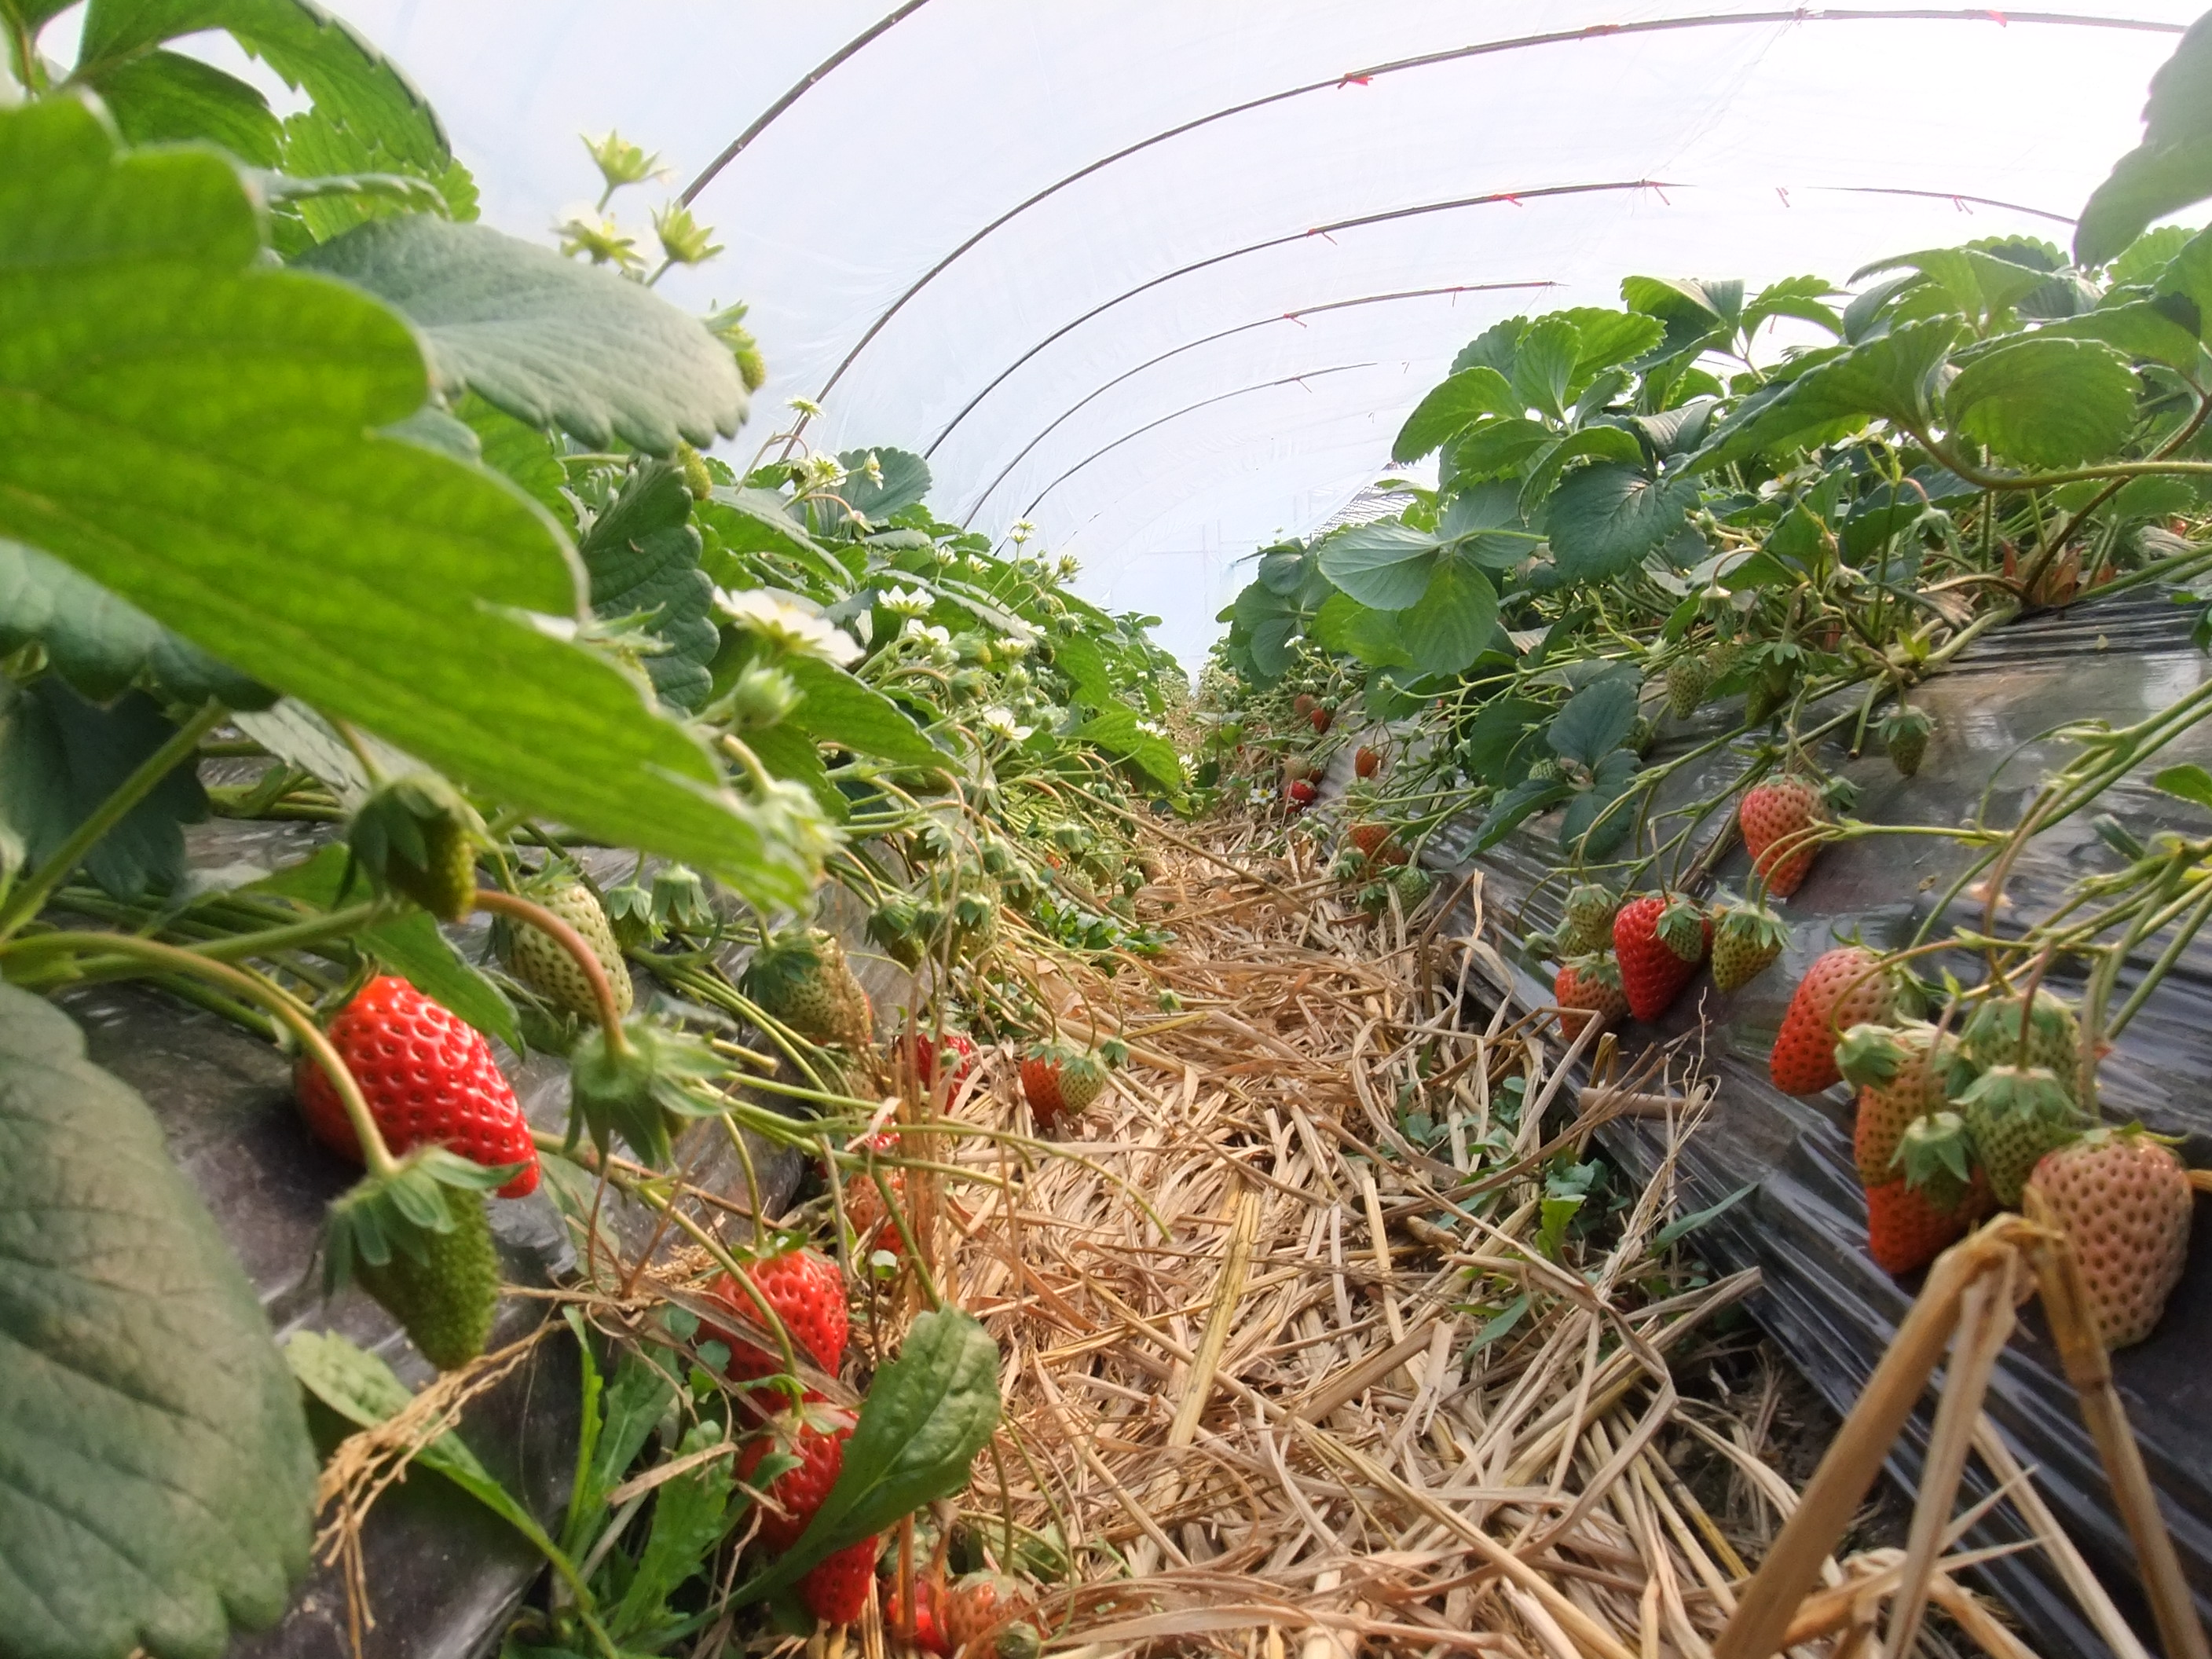StrawberryCone: (1597, 887, 1721, 1039)
StrawberryFusiform: (282, 962, 542, 1208), (705, 1429, 899, 1636), (685, 1229, 859, 1413)
StrawberryIrremovable: (2022, 1127, 2195, 1352), (352, 1173, 502, 1363), (1843, 1131, 1994, 1269), (1827, 1028, 1968, 1175), (1768, 943, 1904, 1094), (516, 870, 643, 1023), (359, 777, 486, 917), (1973, 1060, 2083, 1211), (754, 915, 880, 1040), (1975, 976, 2094, 1094), (1738, 774, 1839, 896), (1014, 1042, 1109, 1141), (894, 1012, 975, 1112), (1698, 904, 1771, 1014), (1543, 962, 1609, 1046), (1655, 645, 1710, 725), (1876, 701, 1933, 777), (1334, 816, 1409, 868), (1564, 878, 1611, 950), (1275, 751, 1334, 807), (1282, 680, 1345, 732), (1061, 1051, 1108, 1117), (1522, 749, 1569, 809), (1757, 638, 1801, 697), (1345, 735, 1390, 782), (1390, 870, 1433, 918), (1693, 582, 1735, 622)
StrawberryRemovable: (293, 967, 536, 1201), (716, 1424, 890, 1635), (695, 1236, 855, 1412), (1604, 899, 1712, 1032)
